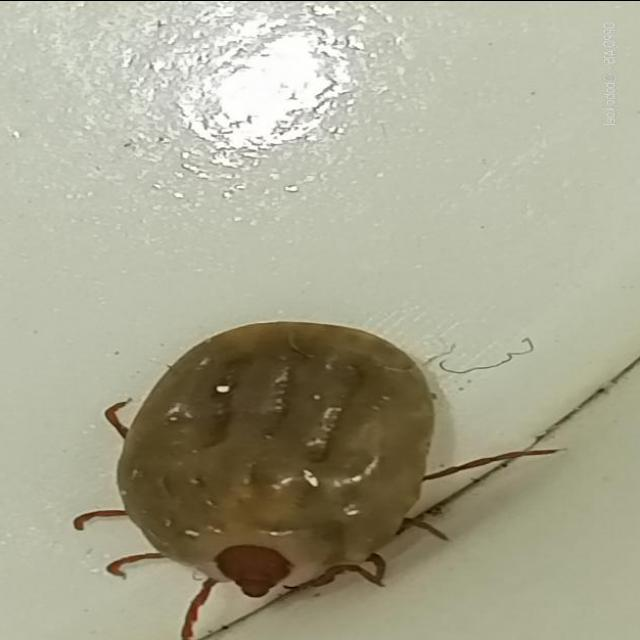Rhipicephalus Sanguineus-F-Fed: (75, 319, 571, 640)
